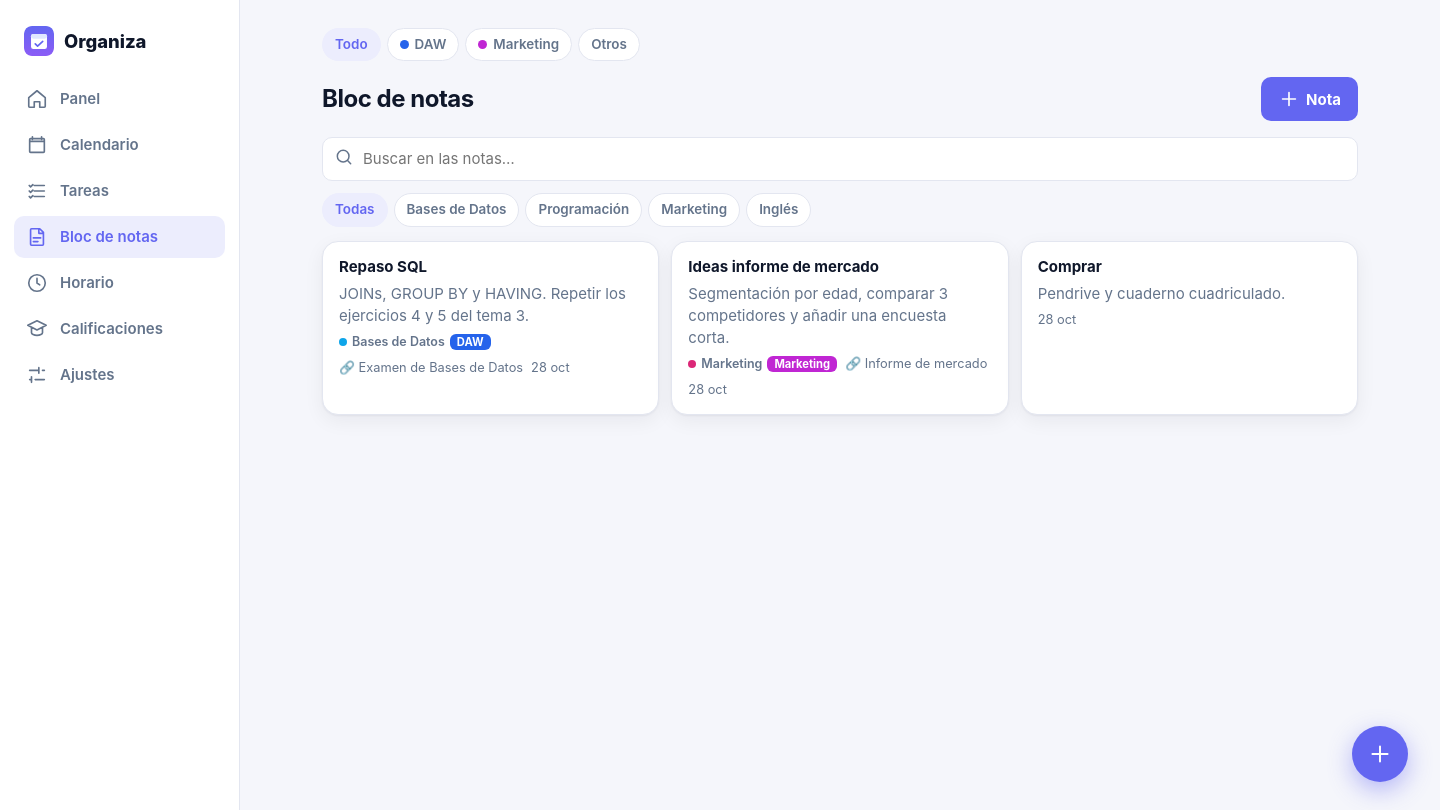
Test case: app › notas: busca por texto
This screenshot has width=1440, height=810.
Type "joins" into the search field with placeholder "Buscar en las notas…" at (840, 159), box [322,138,1358,181]
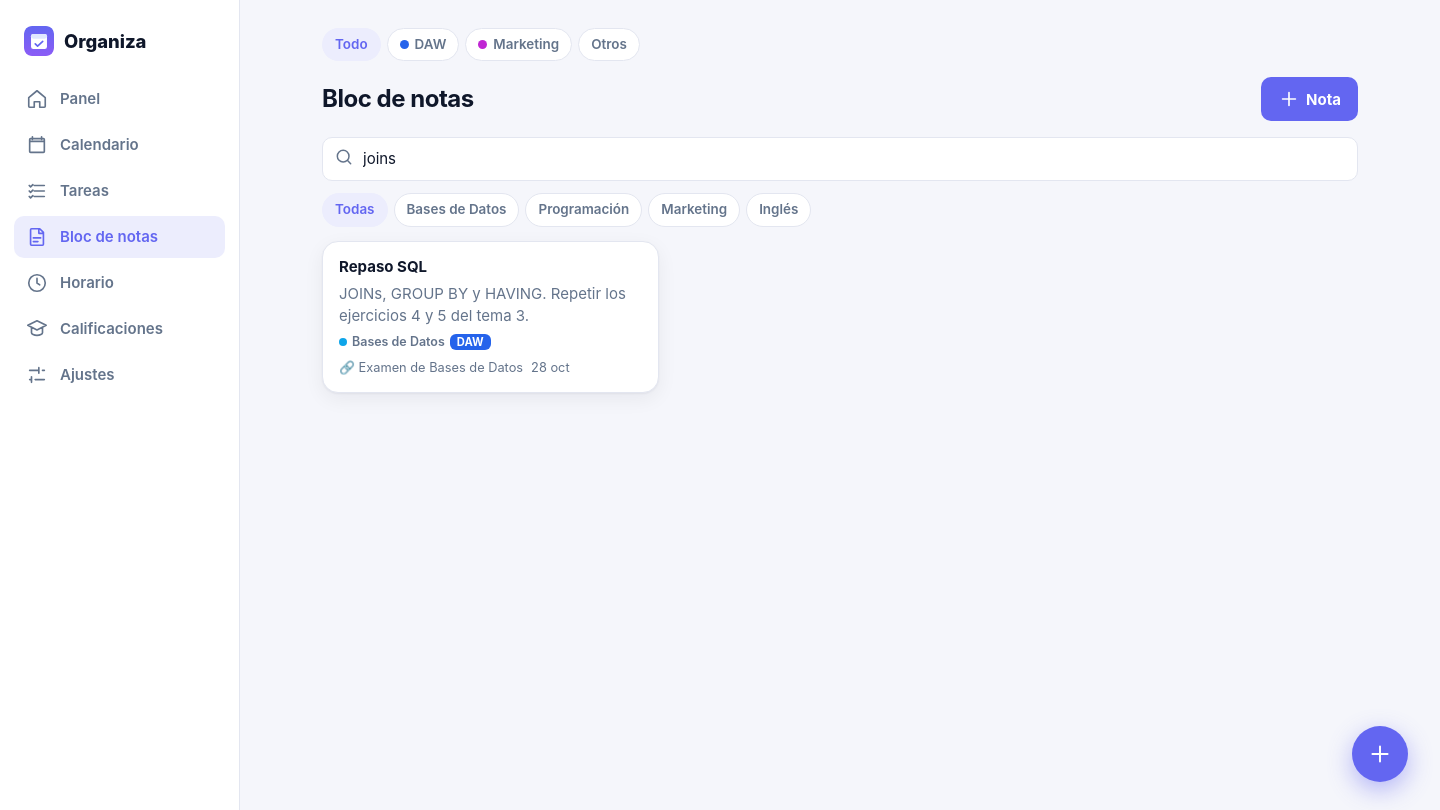
Expected: the text "Repaso SQL" is shown, [339,256,427,278]
Expected: the button "Comprar" is gone
